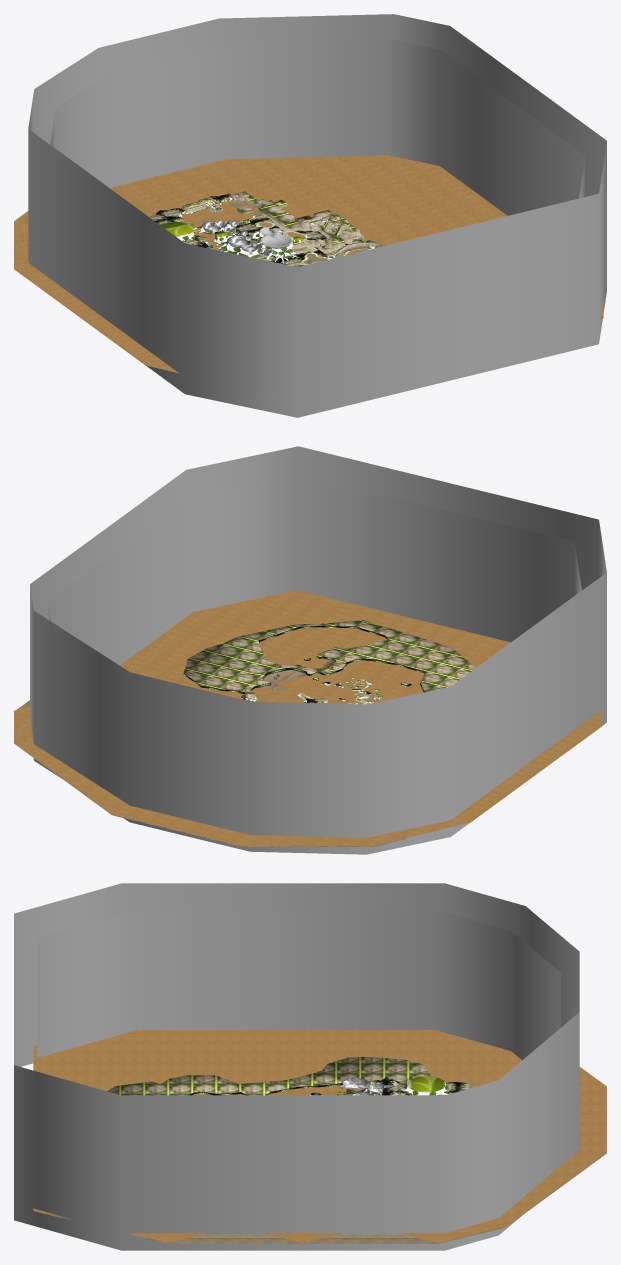
File: DistantSpring.fbx
3 views of the same model, one above another, from view 1: azimuth 30°, elevation 25°; view 2: azimuth 150°, elevation 25°; view 3: azimuth 270°, elevation 25° (orthographic). The views are drawn at different scales.
Parts seen in each view (by area): view 1: Mesh_0033; view 2: Mesh_0033; view 3: Mesh_0033.
Part boxes in pixels (left/top/right/bottom): Mesh_0033: left=14, top=14, right=606, bottom=417; Mesh_0033: left=14, top=446, right=606, bottom=854; Mesh_0033: left=14, top=883, right=606, bottom=1250.
Bounding box in the file's own units: 28767 × 9031 × 31267.
